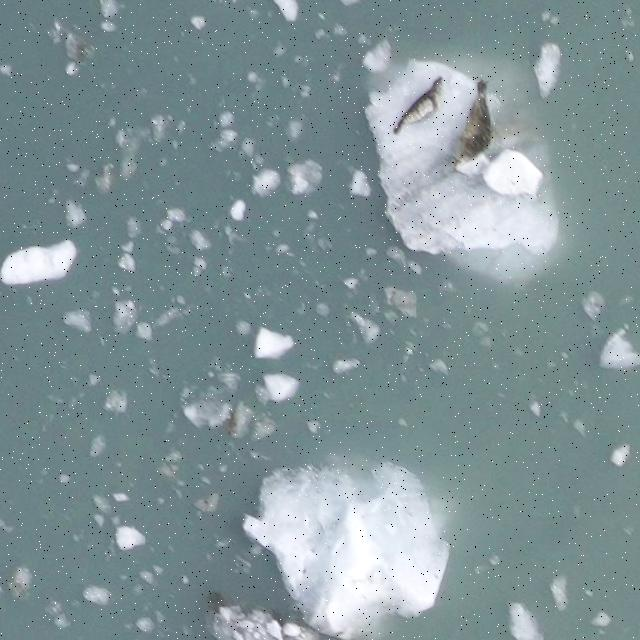seal: (448, 79, 509, 182), (385, 74, 459, 146)
